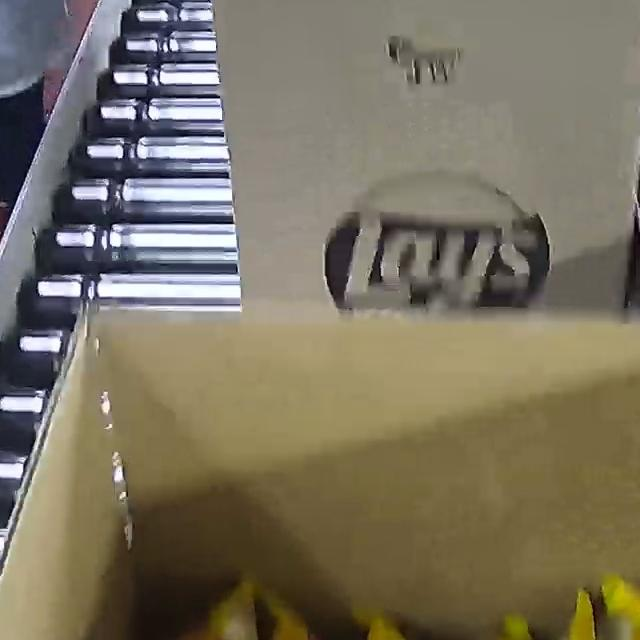salted: (105, 552, 640, 640)
